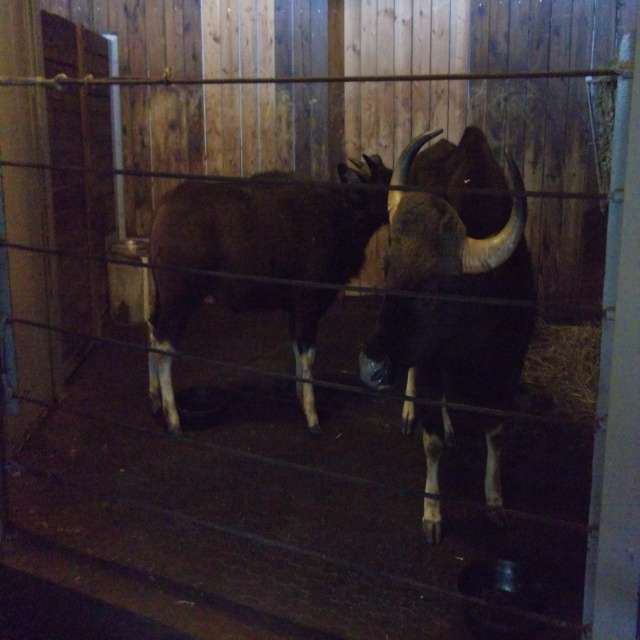Cattle: (358, 125, 539, 543), (146, 154, 393, 441)
